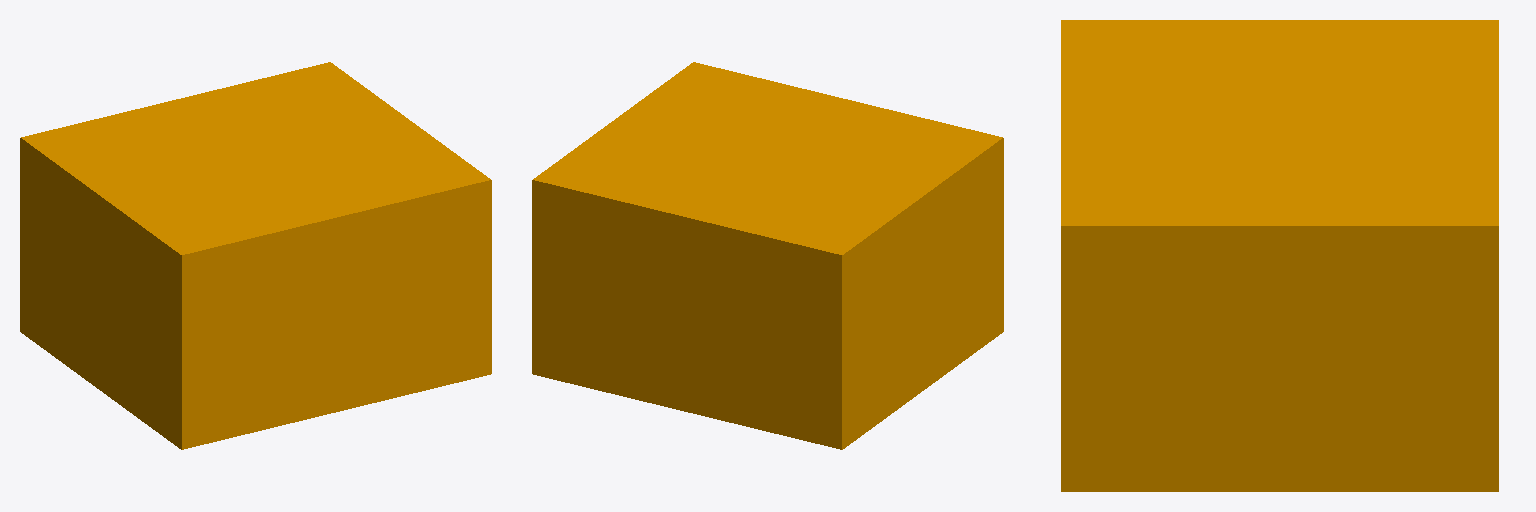
The robot description file, URDF, robot "2x2":
<?xml version='1.0' encoding='UTF-8'?>
<robot name="2x2">
  <link name="base_link">
    <inertial>
      <origin xyz="0.0 0.0 0.0" rpy="0.0 0.0 0.0"/>
      <mass value="0.01"/>
      <inertia ixx="0.1" ixy="0.0" ixz="0.0" iyy="0.1" iyz="0.0" izz="0.1"/>
    </inertial>
    <visual>
      <geometry>
        <box size="0.02  0.018 0.012"/>
      </geometry>
      <material name=""/>
      <origin xyz="0.0 0.0 0.0" rpy="0.0 0.0 0.0"/>
    </visual>
    <collision>
      <geometry>
        <box size="0.02  0.018 0.012"/>
      </geometry>
      <origin xyz="0.0 0.0 0.0" rpy="0.0 0.0 0.0"/>
    </collision>
  </link>
  <material name="">
    <color rgba="0.36442317 0.78593962 0.47136861 1.        "/>
  </material>
  <contact>
    <lateral_friction value="1.0"/>
    <rolling_friction value="0.0"/>
    <contact_cfm value="0.0"/>
    <contact_erp value="1.0"/>
  </contact>
</robot>

--- What the picture shows (computed from the rendered views, not written in the file) ---
Views: 3 orthographic renders of the robot side by side, from view 1: azimuth 30°, elevation 25°; view 2: azimuth 150°, elevation 25°; view 3: azimuth 270°, elevation 25°.
Robot: 2x2 — 1 links, 0 joints (none); root link base_link; default pose: all joints at 0.
Links seen in each view (by area): view 1: base_link; view 2: base_link; view 3: base_link.
Boxes of the visible links, bbox=[...] form: base_link: bbox=[20, 62, 491, 449]; base_link: bbox=[532, 62, 1003, 449]; base_link: bbox=[1061, 20, 1498, 491].
Size in the robot's own frame: 0.02 by 0.018 by 0.012 metres.
Geometry: primitives only (box / cylinder / sphere), no mesh files.